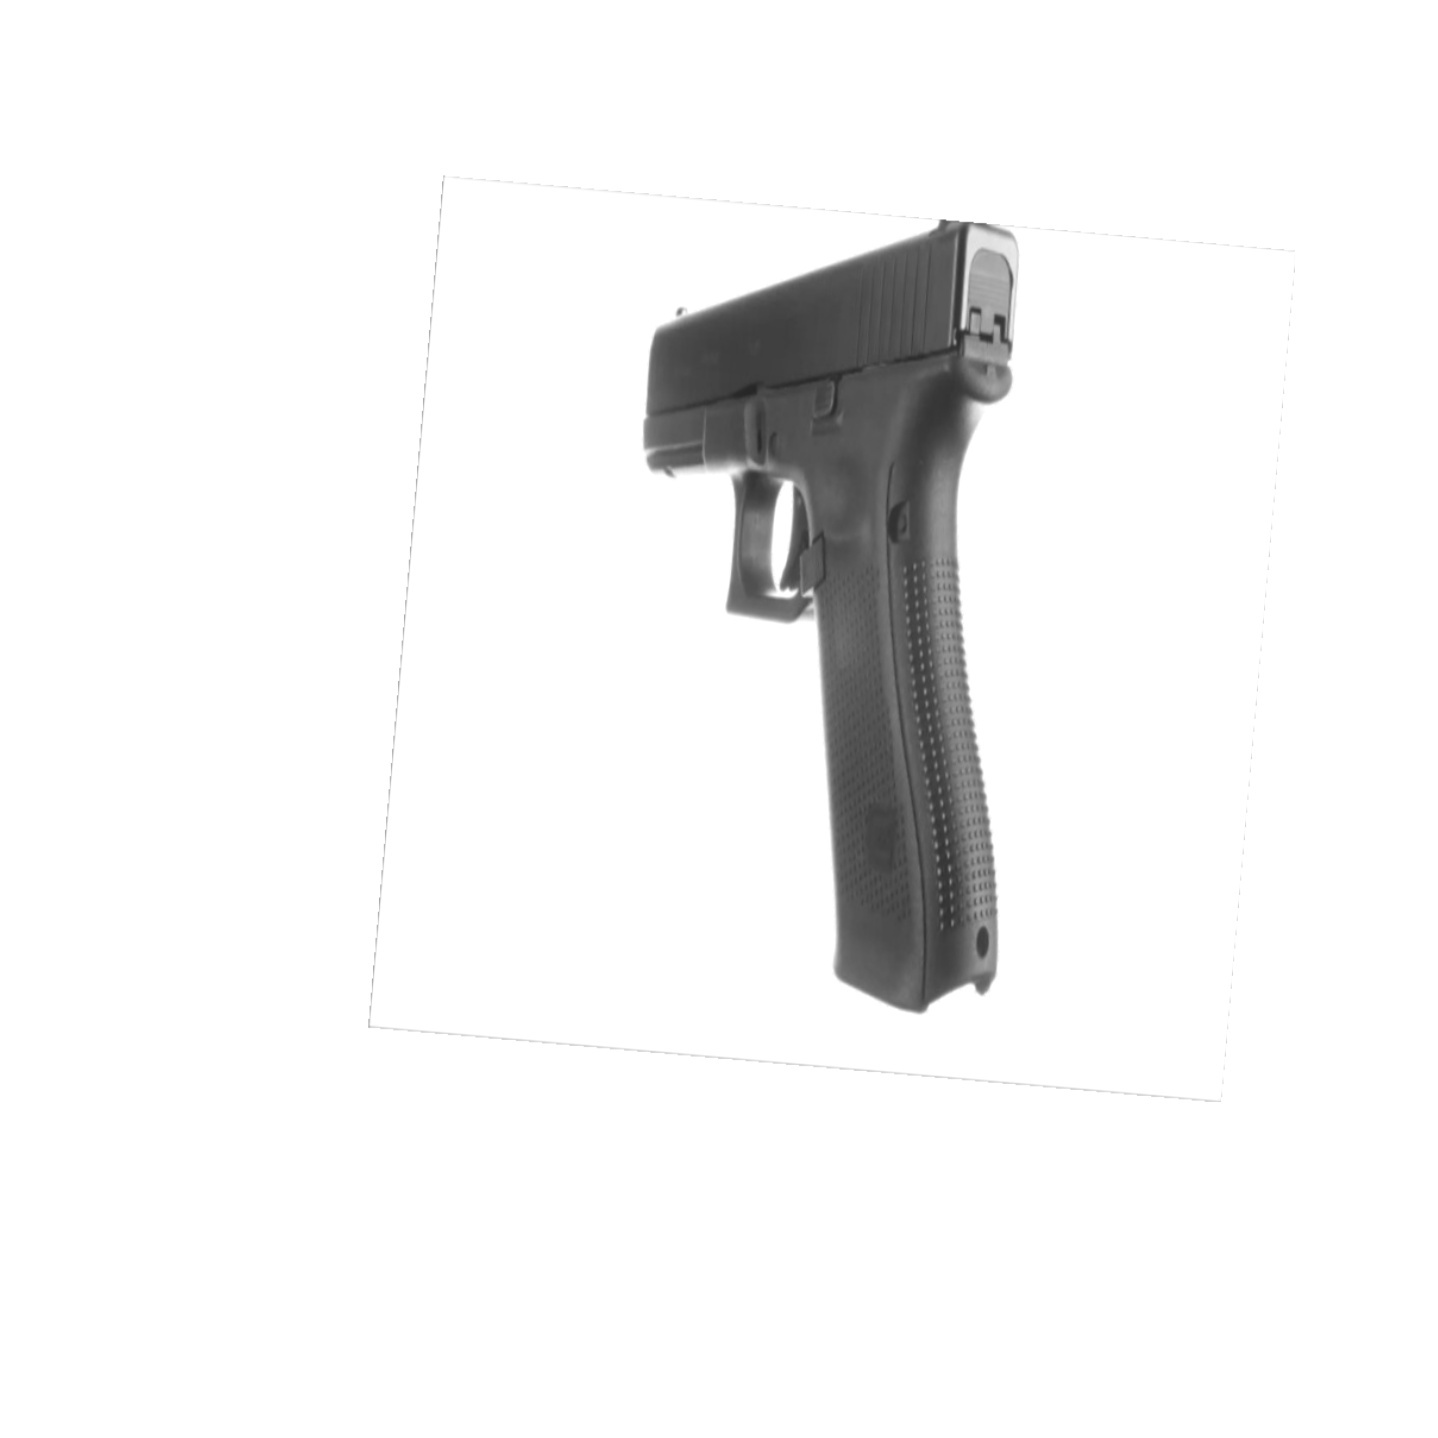gun: (645, 219, 1019, 1017)
